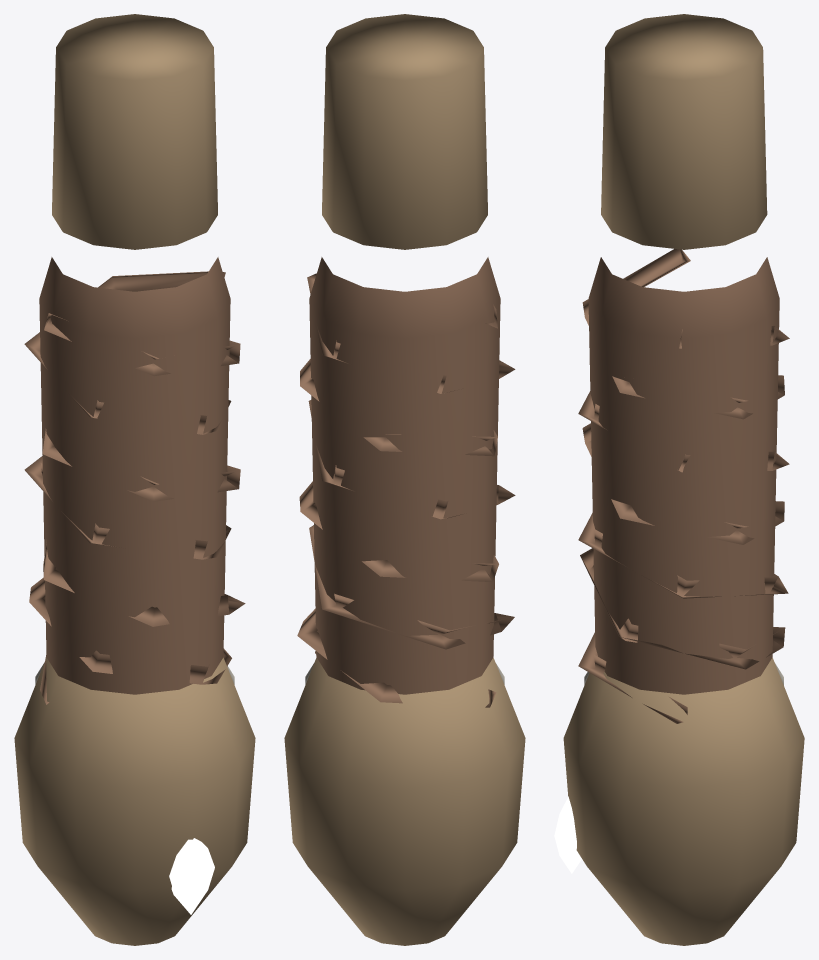
Rendered from handle_basic.glb.
3 renders of one model, left to right at view 1: azimuth 30°, elevation 25°; view 2: azimuth 150°, elevation 25°; view 3: azimuth 270°, elevation 25°, orthographic.
Parts seen in each view (by area): view 1: handle_basic; view 2: handle_basic; view 3: handle_basic.
Part boxes in pixels (left/top/right/bottom): handle_basic: left=14, top=14, right=255, bottom=945; handle_basic: left=284, top=14, right=525, bottom=945; handle_basic: left=554, top=14, right=804, bottom=945.
Bounding box in the file's own units: 0.1044 × 0.42 × 0.1084.
